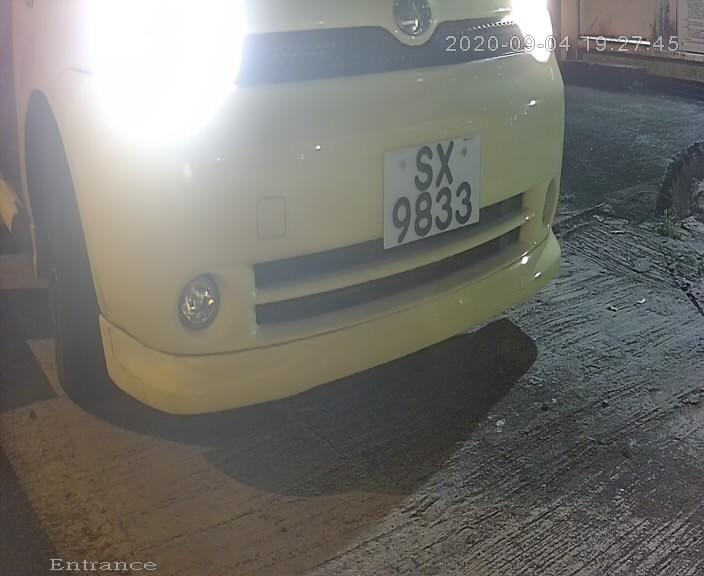License Plate: (378, 121, 491, 265)
